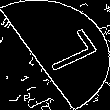L_SW: (19, 29, 91, 81)
